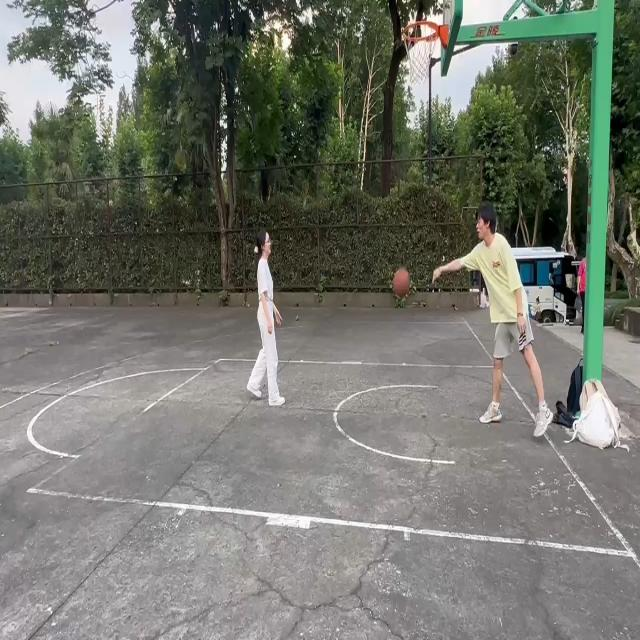basketball: (402, 20, 446, 90)
rim: (392, 270, 410, 298)
